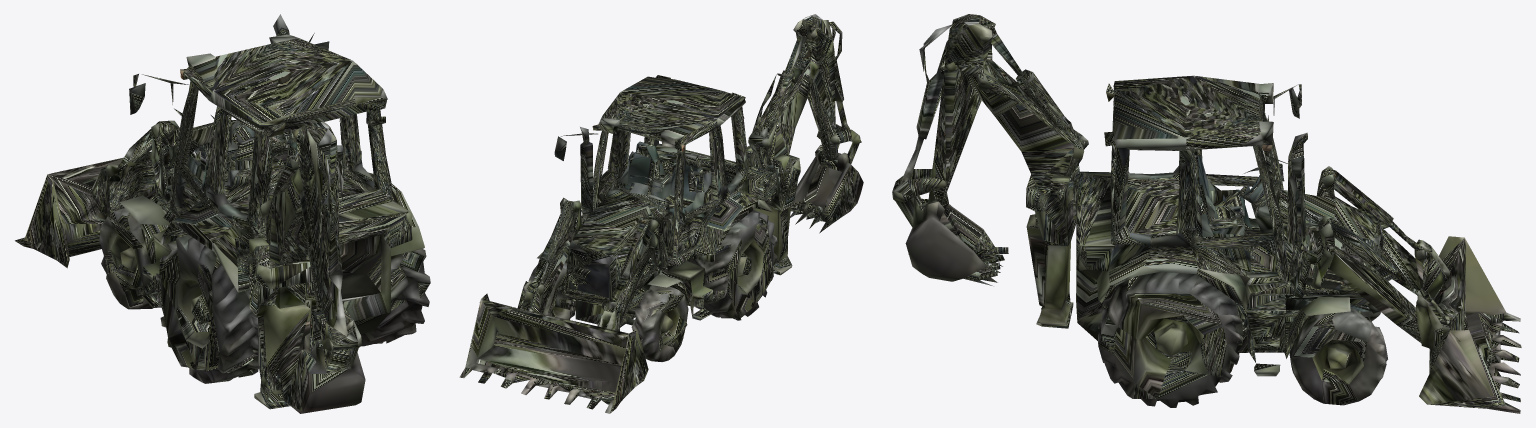
The model's file is retroescavadeira_lod1.glb.
3 views of the same model, side by side, from view 1: azimuth 30°, elevation 25°; view 2: azimuth 150°, elevation 25°; view 3: azimuth 270°, elevation 25° (orthographic). The views are drawn at different scales.
Parts seen in each view (by area): view 1: tripo_node_5a973e00-a01d-42b4-81b0-b6793f32b988; view 2: tripo_node_5a973e00-a01d-42b4-81b0-b6793f32b988; view 3: tripo_node_5a973e00-a01d-42b4-81b0-b6793f32b988.
Boxes of the visible parts, <box> form: tripo_node_5a973e00-a01d-42b4-81b0-b6793f32b988: <box>15,14,430,413</box>; tripo_node_5a973e00-a01d-42b4-81b0-b6793f32b988: <box>459,14,863,413</box>; tripo_node_5a973e00-a01d-42b4-81b0-b6793f32b988: <box>892,14,1521,413</box>.
Bounding box in the file's own units: 2.85 × 3.78 × 6.99.
Materials: 1 (1 with a texture image).
